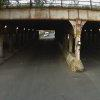Bridge: (2, 0, 97, 41)
